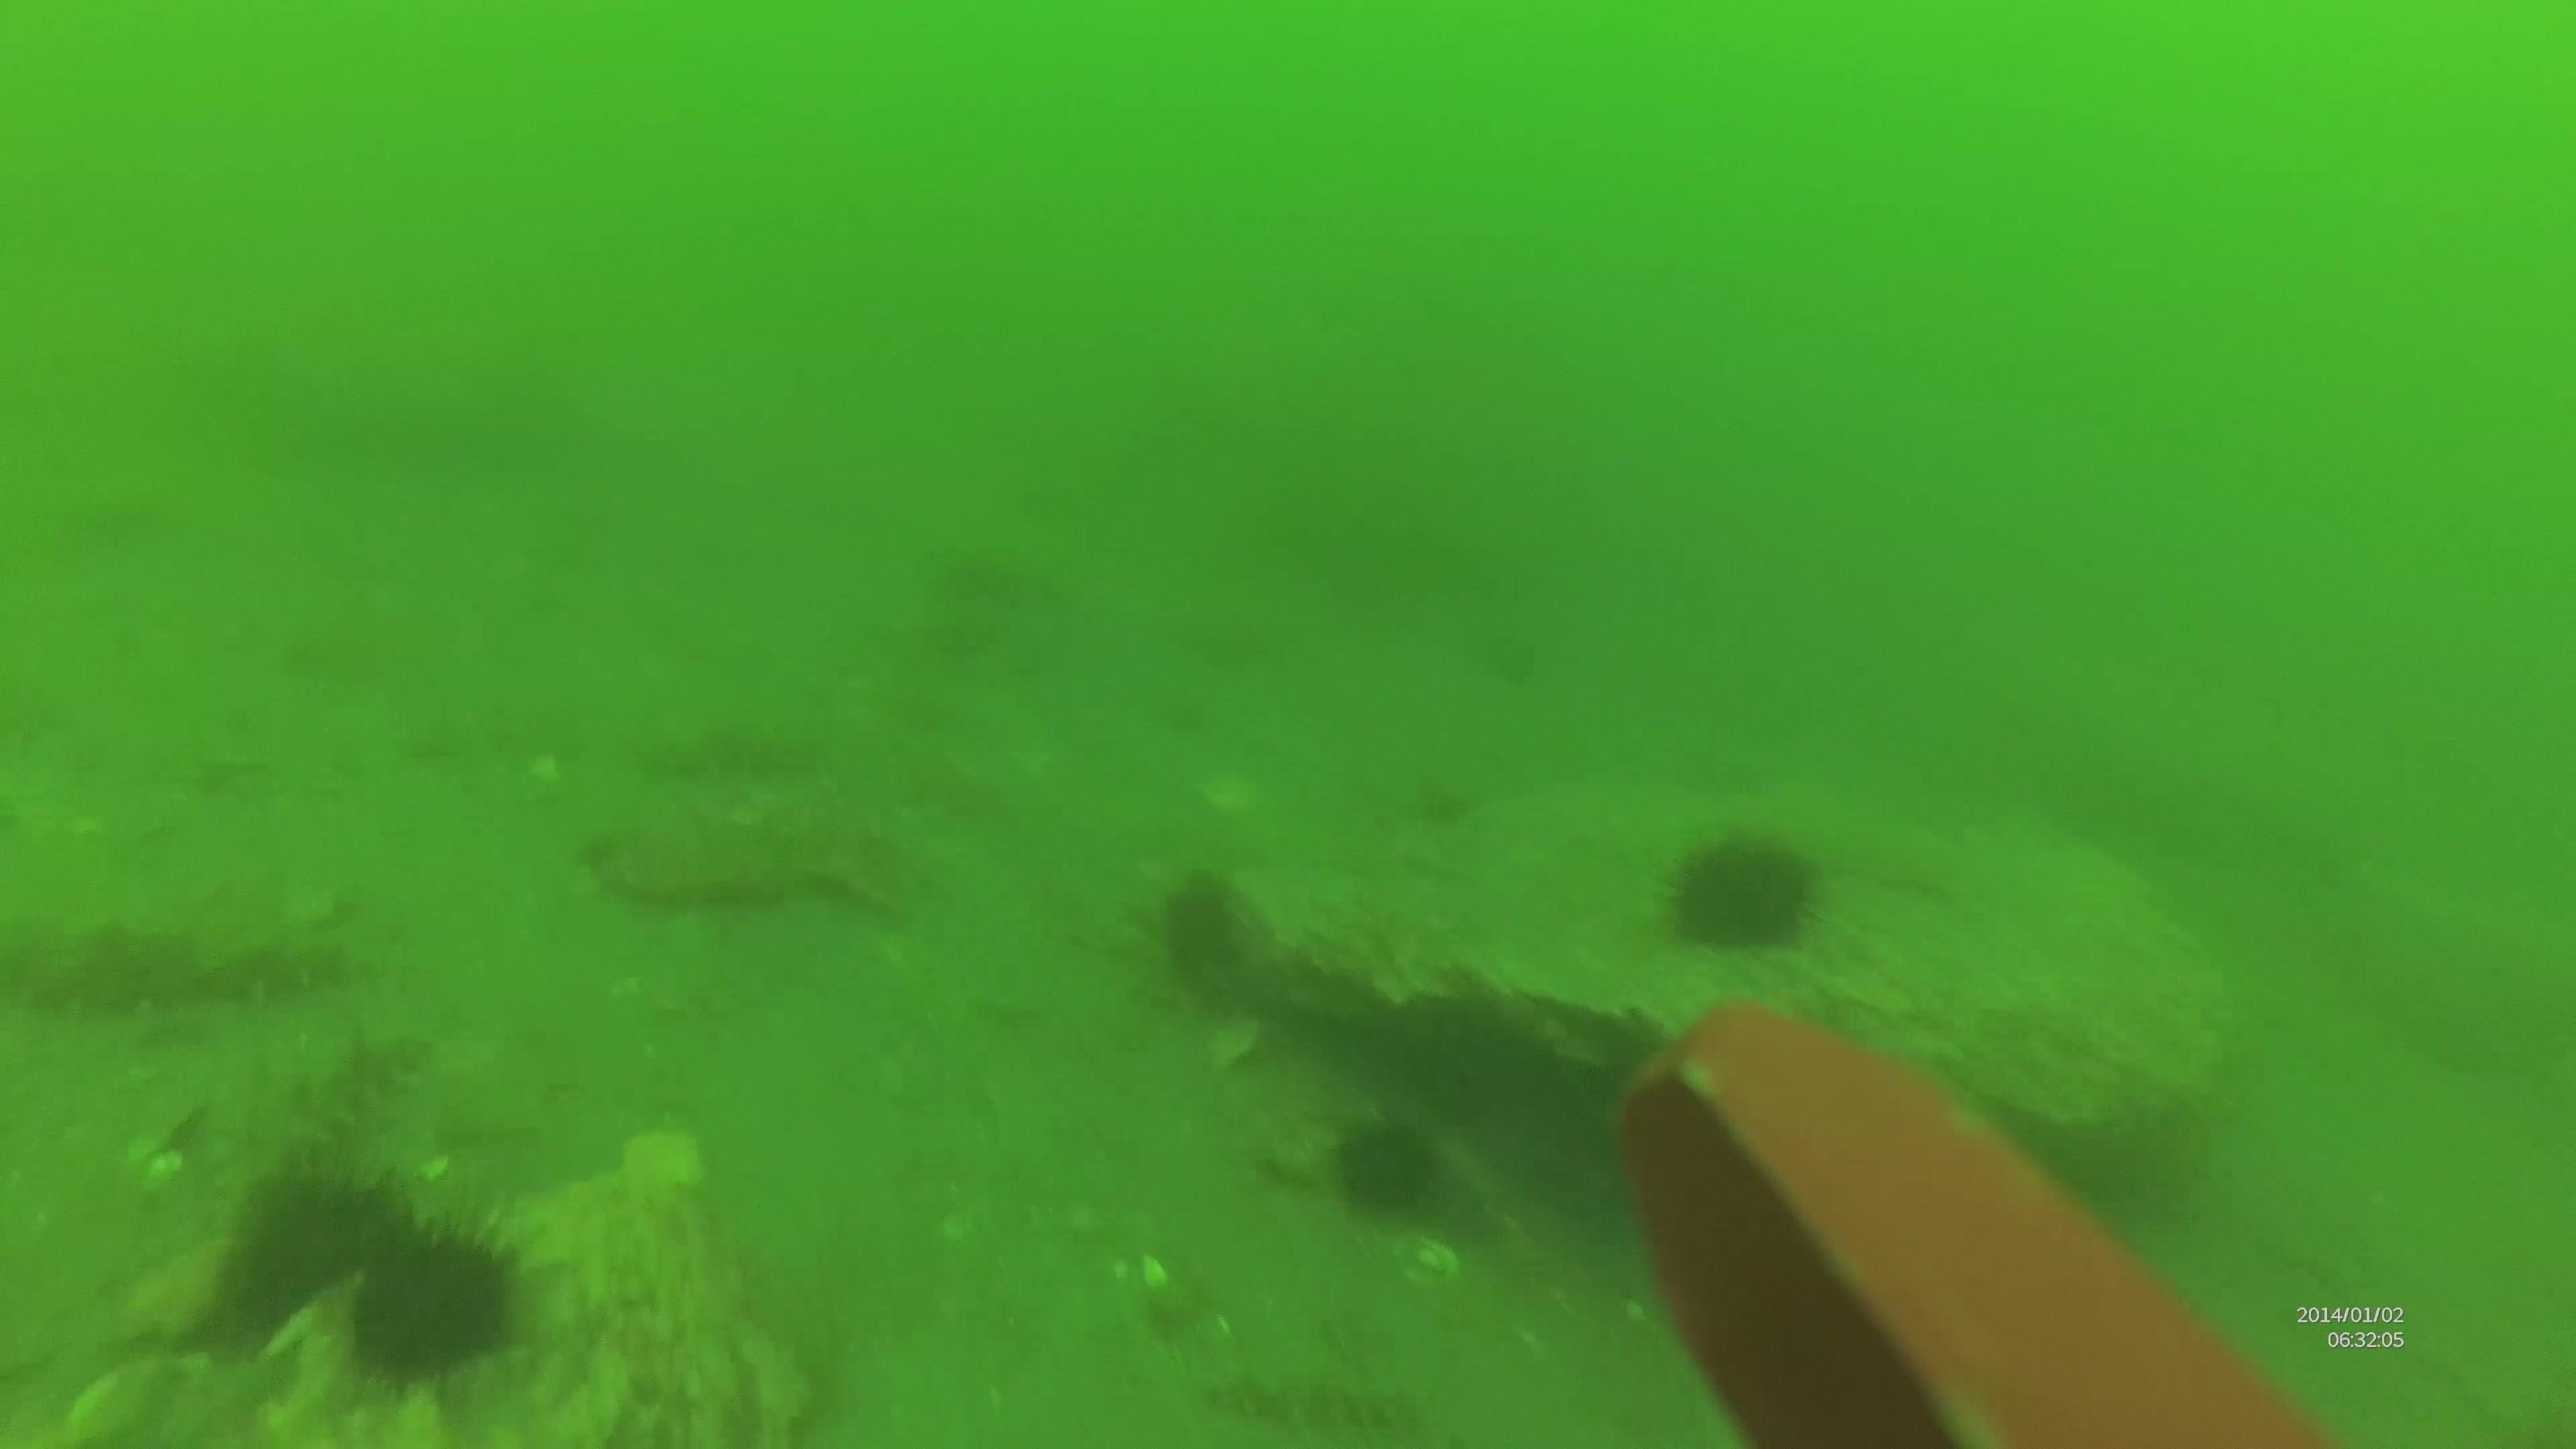echinus: (211, 1159, 418, 1352), (338, 1212, 531, 1389), (1658, 823, 1829, 959), (1146, 867, 1261, 1001), (1325, 1108, 1453, 1226)
holothurian: (5, 901, 364, 1024), (216, 1024, 449, 1169), (1208, 1359, 1428, 1438)
